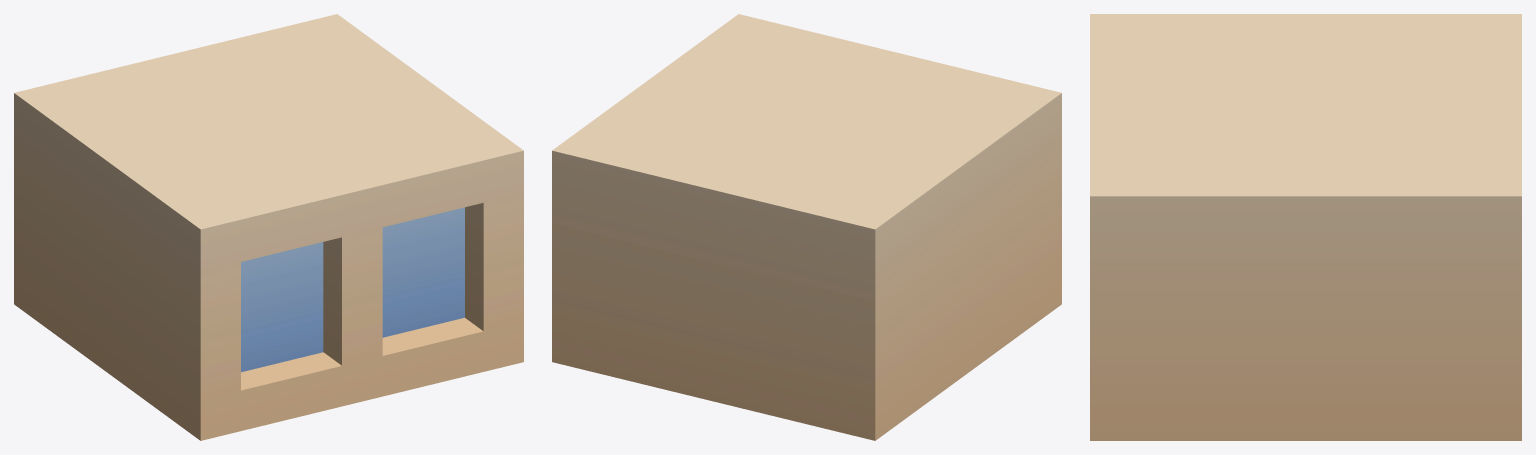
Rendered from kenney-modular-buildings-building-windows.glb.
3 renders of one model, left to right at view 1: azimuth 30°, elevation 25°; view 2: azimuth 150°, elevation 25°; view 3: azimuth 270°, elevation 25°, orthographic. The views are drawn at different scales.
Visible parts, largest first — view 1: building-windows; view 2: building-windows; view 3: building-windows.
Part boxes in pixels (x1,y1,x2,y2): building-windows: (14,14,523,440); building-windows: (552,14,1061,440); building-windows: (1090,14,1521,440).
Size of the model in its own units: 1 by 0.625 by 1.
1 material, 1 textured.
